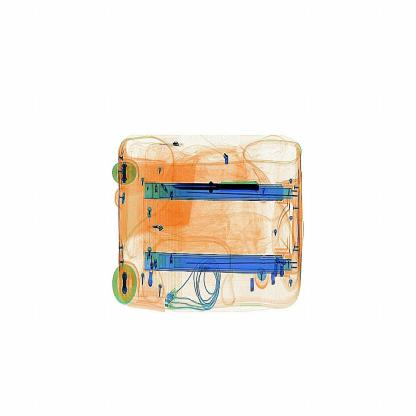gun: (162, 171, 264, 200)
